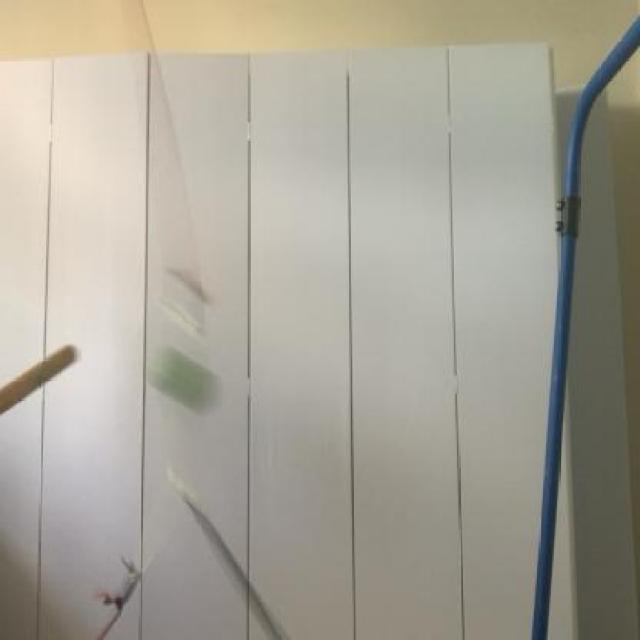baseball: (139, 346, 226, 429)
